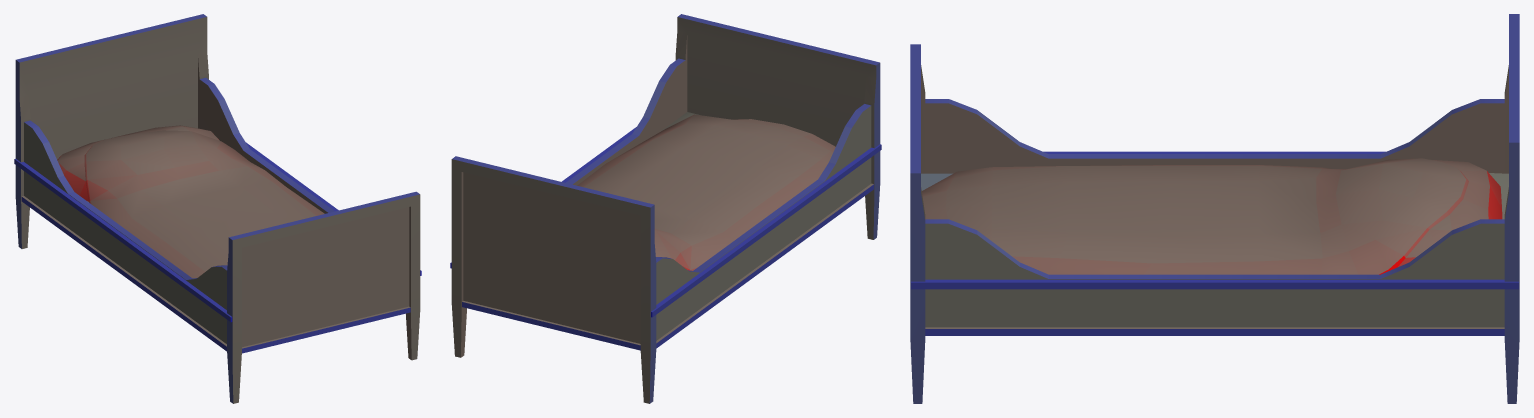
The model's file is bed1.fbx.
The picture shows the model from 3 angles, left to right: view 1: azimuth 30°, elevation 25°; view 2: azimuth 150°, elevation 25°; view 3: azimuth 270°, elevation 25°; orthographic projection. The views are drawn at different scales.
Parts seen in each view (by area): view 1: bed; view 2: bed; view 3: bed.
Boxes of the visible parts, <box> form: bed: <box>14,14,421,403</box>; bed: <box>450,14,881,403</box>; bed: <box>910,14,1519,403</box>.
Size of the model in its own units: 102 by 95.03 by 200.
